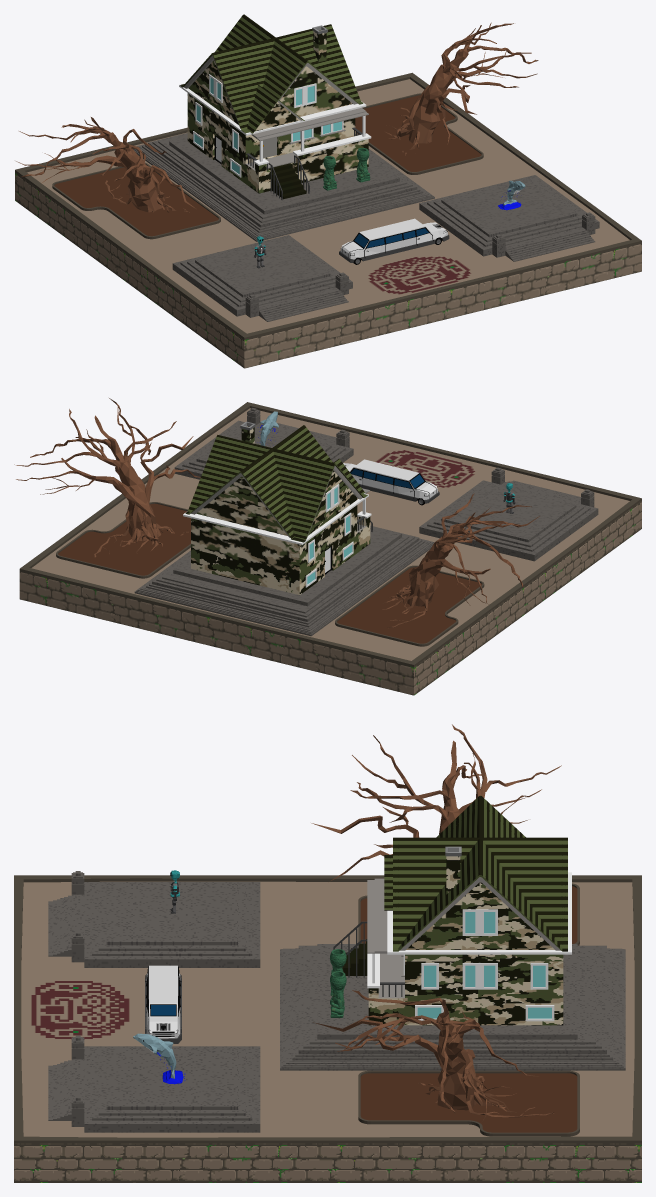
3 views of the same model, one above another, from view 1: azimuth 30°, elevation 25°; view 2: azimuth 150°, elevation 25°; view 3: azimuth 270°, elevation 25° (orthographic). The views are drawn at different scales.
Visible parts, largest first — view 1: Cube.011, Cube.002, VEHICLES_LIMOUSINE; view 2: Cube.011, Cube.002, VEHICLES_LIMOUSINE; view 3: Cube.011, Cube.002, VEHICLES_LIMOUSINE, ANIMAL_DELFIN.
Part boxes in pixels (x1,y1,x2,y2): Cube.011: (15,22,641,368); Cube.002: (179,14,371,200); VEHICLES_LIMOUSINE: (339,218,449,264); Cube.011: (14,398,641,695); Cube.002: (183,421,372,595); VEHICLES_LIMOUSINE: (343,459,439,505); Cube.011: (14,724,641,1182); Cube.002: (333,795,571,1025); VEHICLES_LIMOUSINE: (145,965,181,1043); ANIMAL_DELFIN: (133,1033,185,1084).
Size of the model in its own units: 5099 by 1686 by 4000.
36 materials, 8 textured.
